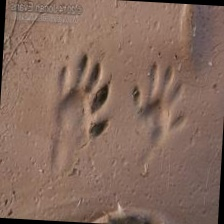raccoon: (47, 51, 115, 162), (125, 62, 192, 150)
